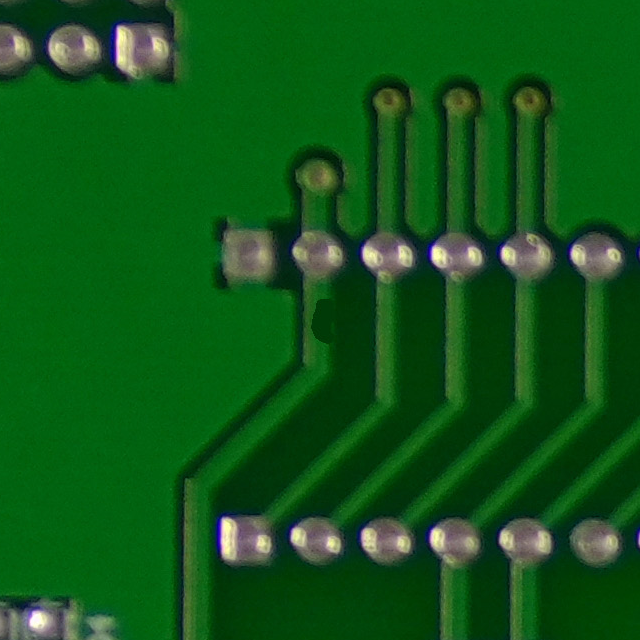mouse_bite: (295, 288, 346, 353)
